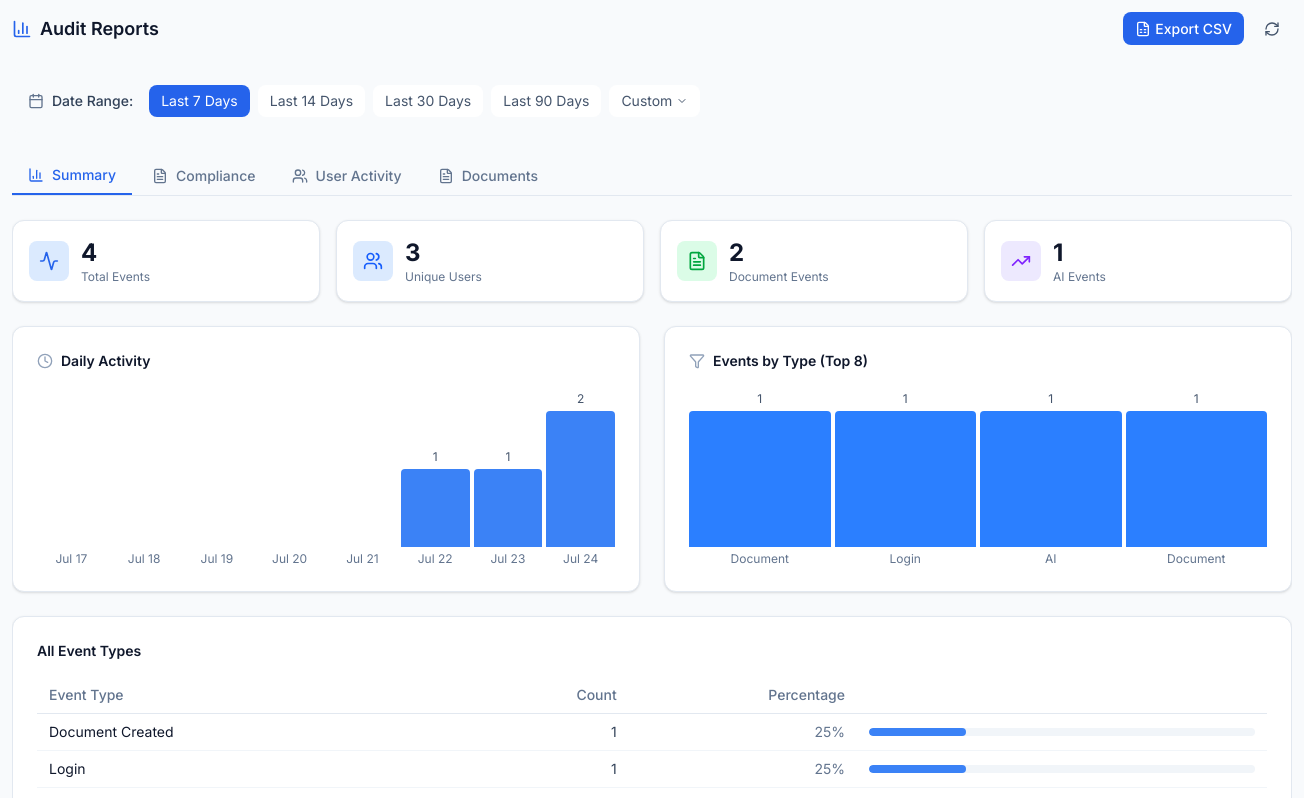
AuditReportGenerator › Report Tabs › should switch to user activity report
Click the button "User Activity".
click(347, 176)  # box [276,157,418,195]
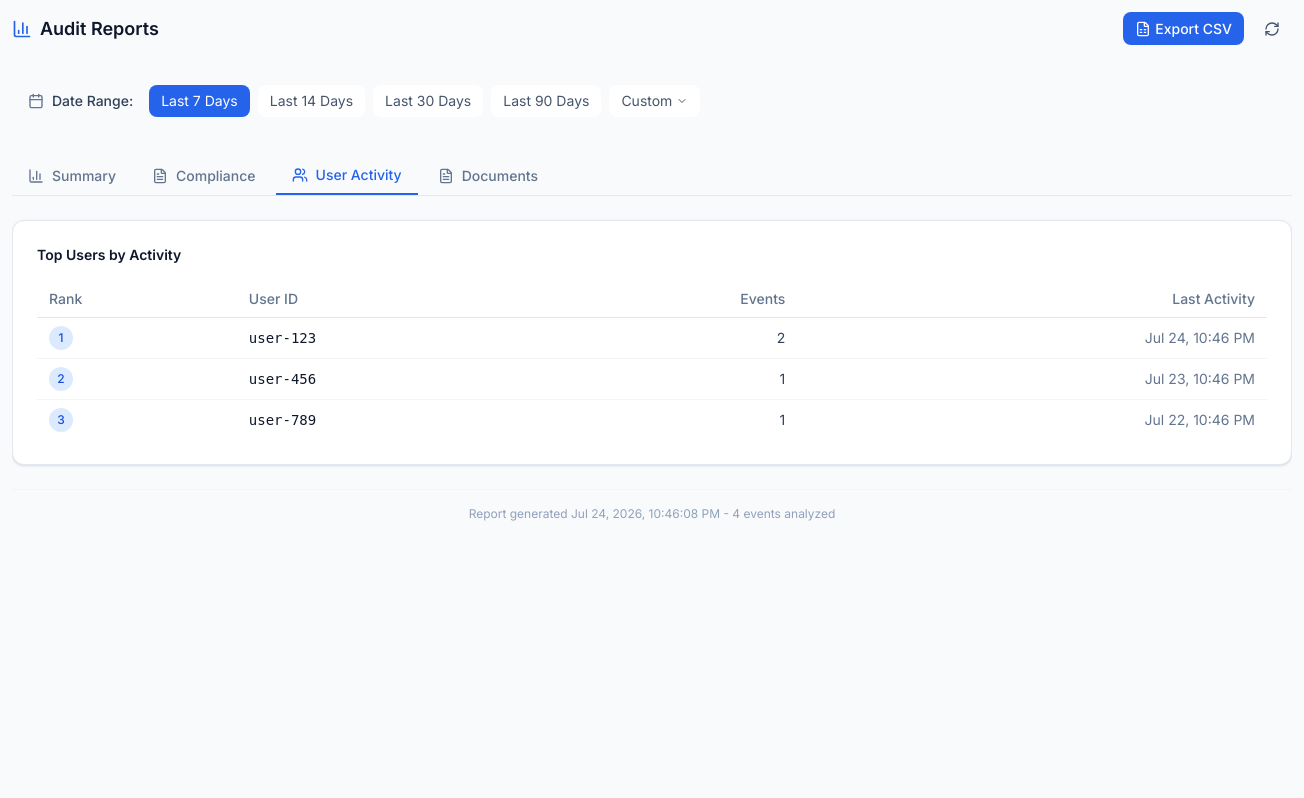
Expected: the heading "Top Users by Activity" is shown, [37,246,181,263]
